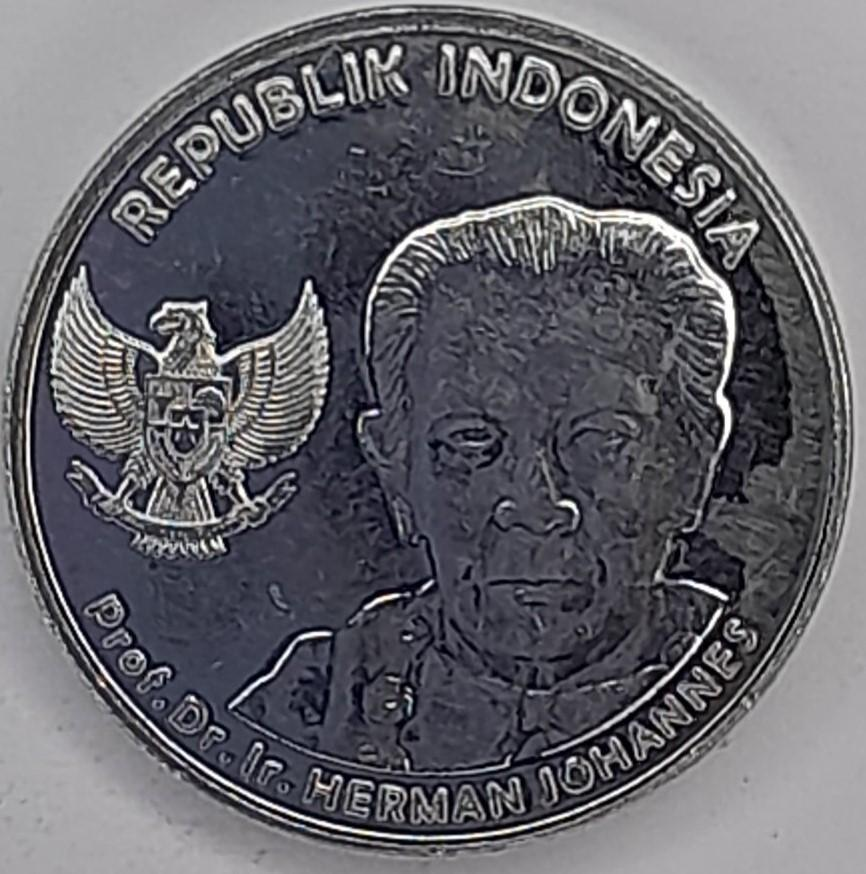coin_100_e2016: (0, 0, 861, 860)
